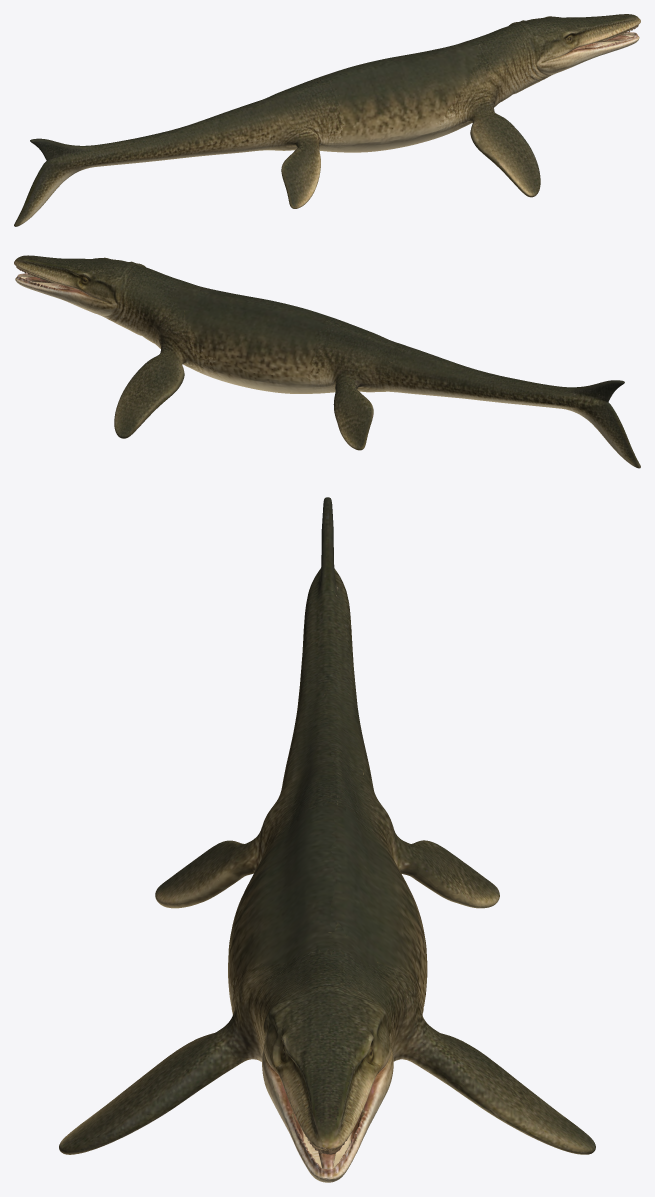
3 renders of one model, top to bottom at view 1: azimuth 30°, elevation 25°; view 2: azimuth 150°, elevation 25°; view 3: azimuth 270°, elevation 25°, orthographic. The views are drawn at different scales.
Parts seen in each view (by area): view 1: Authored orientation; view 2: Authored orientation; view 3: Authored orientation.
Part boxes in pixels (x1,y1,x2,y2): Authored orientation: (14, 14, 640, 226); Authored orientation: (14, 255, 640, 468); Authored orientation: (59, 497, 595, 1182).
Bounding box in the file's own units: 6.5 × 1.14 × 2.42.
1 material, 1 textured.
